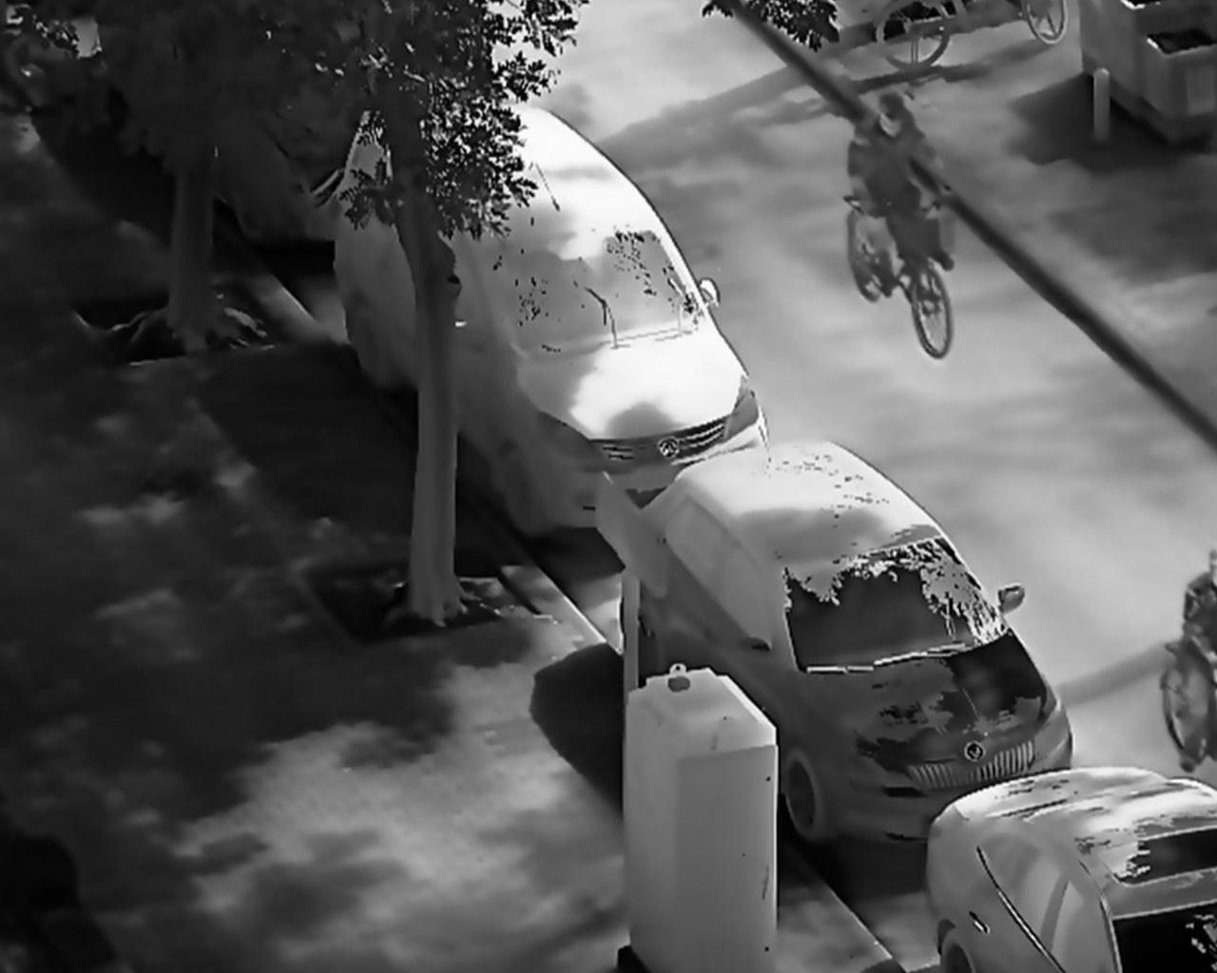person: (847, 90, 955, 303)
